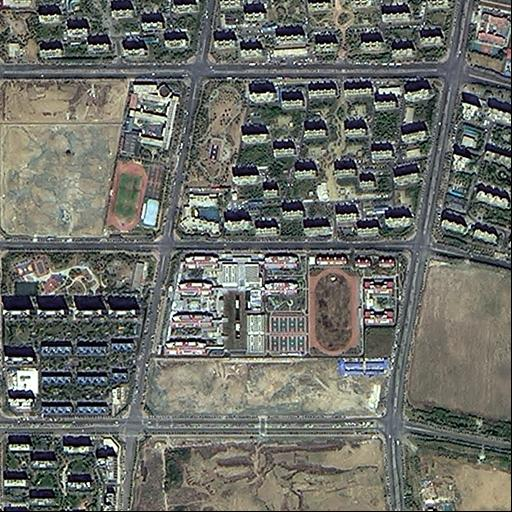school: (153, 252, 410, 359), (100, 76, 187, 239)
